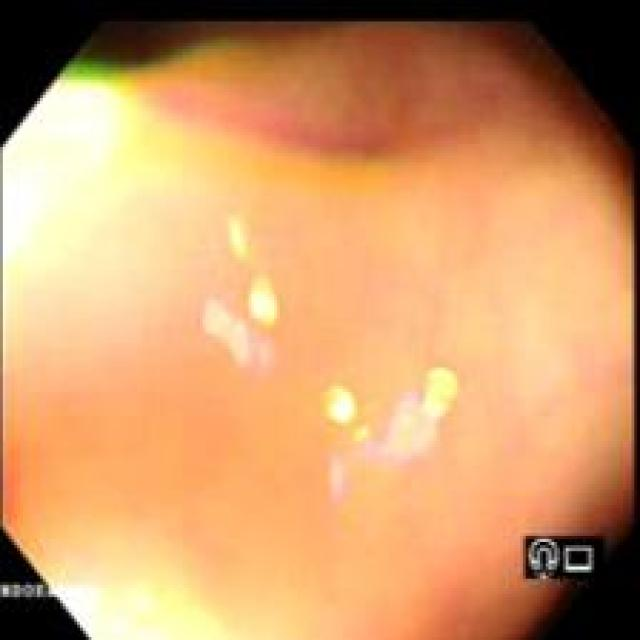color misalignment: (57, 34, 267, 82), (203, 299, 274, 376), (361, 400, 437, 461), (529, 540, 593, 583), (5, 583, 59, 601), (331, 463, 348, 501)
saturation: (5, 85, 126, 278), (49, 588, 200, 640)
specularity: (425, 371, 460, 418), (329, 395, 356, 426), (252, 294, 277, 326), (235, 225, 247, 257), (358, 432, 371, 442)
